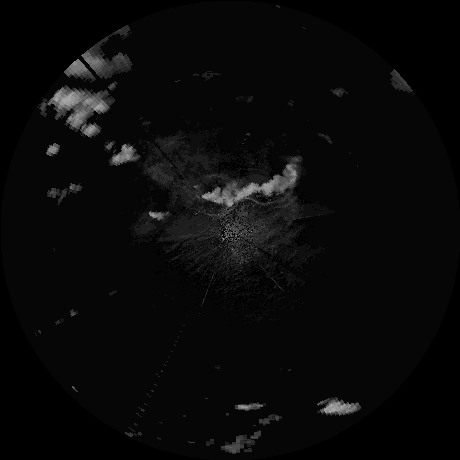frontgust: (243, 190, 296, 205), (197, 203, 239, 217)
